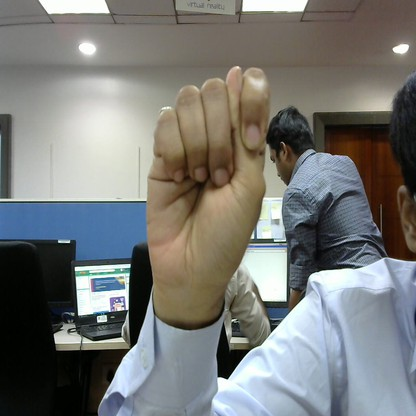t: (145, 63, 272, 297)
